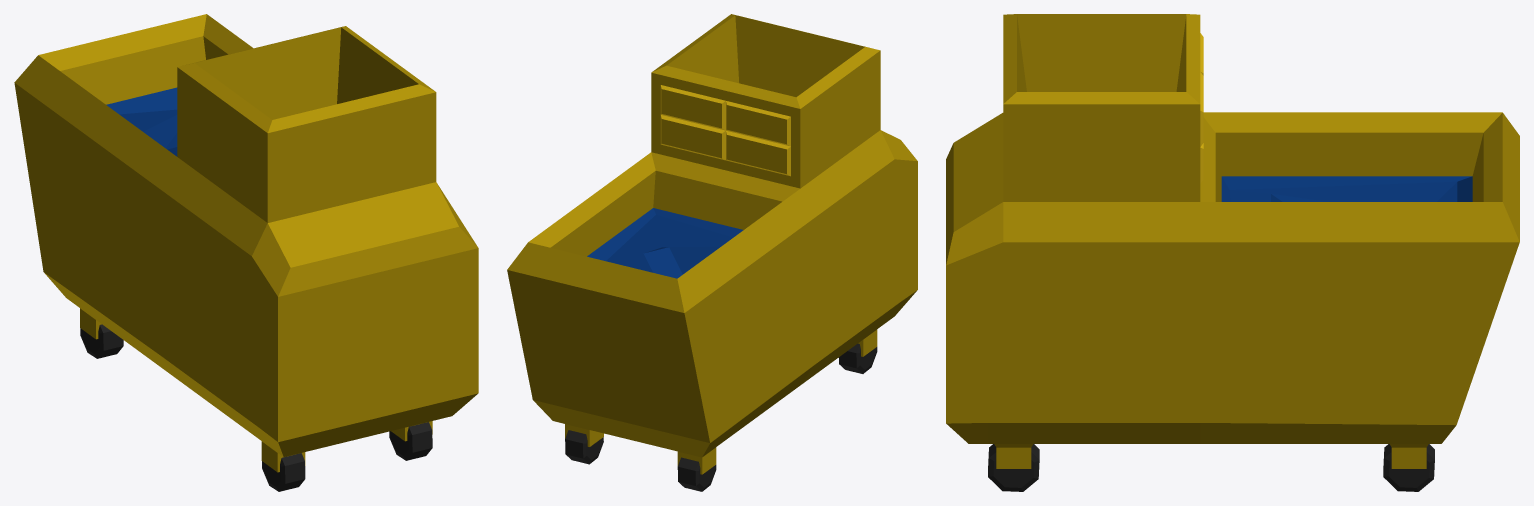
File: MopBucketV2.fbx
3 renders of one model, left to right at view 1: azimuth 30°, elevation 25°; view 2: azimuth 150°, elevation 25°; view 3: azimuth 270°, elevation 25°, orthographic. The views are drawn at different scales.
Visible parts, largest first — view 1: MopBucketV2; view 2: MopBucketV2; view 3: MopBucketV2.
Boxes of the visible parts, x1,y1,x2,y2 form: MopBucketV2: [14, 14, 478, 491]; MopBucketV2: [507, 14, 917, 491]; MopBucketV2: [946, 14, 1519, 491].
Bounding box in the file's own units: 27.96 × 49.01 × 63.71.
